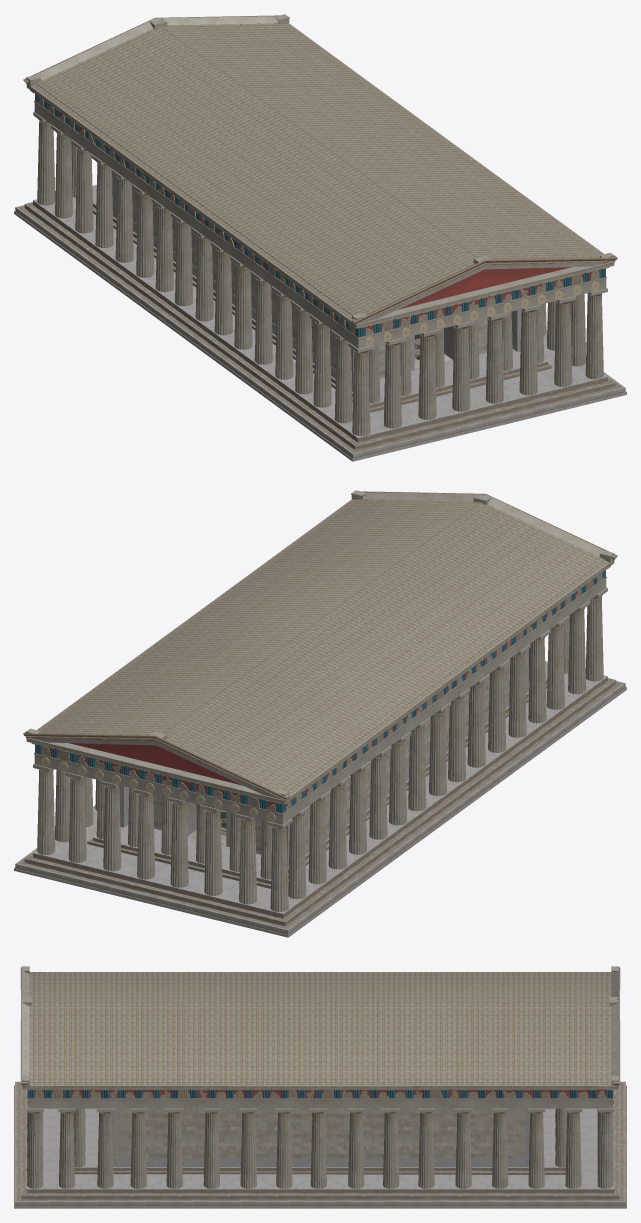
File: Parthenon.fbx
3 renders of one model, top to bottom at view 1: azimuth 30°, elevation 25°; view 2: azimuth 150°, elevation 25°; view 3: azimuth 270°, elevation 25°, orthographic. The views are drawn at different scales.
Visible parts, largest first — view 1: Parthenon; view 2: Parthenon; view 3: Parthenon.
Boxes of the visible parts, <box> form: Parthenon: <box>14,14,626,461</box>; Parthenon: <box>14,490,626,937</box>; Parthenon: <box>14,966,626,1208</box>.
Size of the model in its own units: 3395 by 1956 by 7260.
20 materials, 20 textured.
